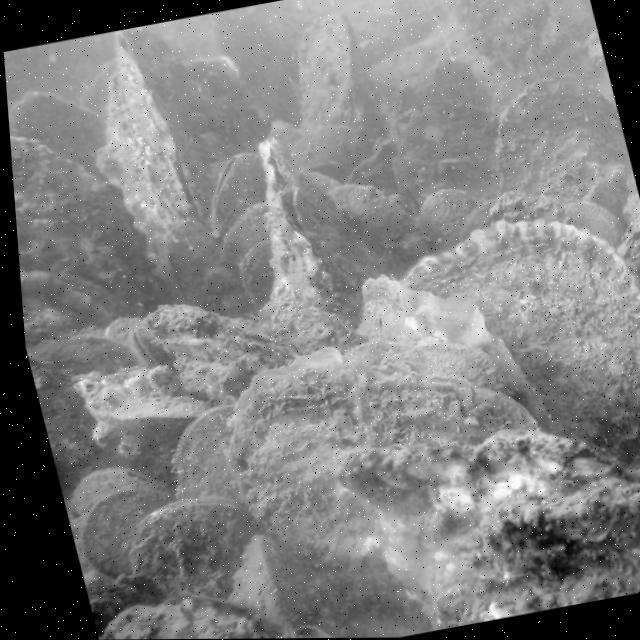Oyster-Closed: (95, 28, 213, 276), (230, 533, 322, 630), (213, 152, 266, 240), (130, 328, 177, 371)
Oyster-Indeterminate: (227, 344, 542, 638), (337, 428, 640, 630), (398, 221, 640, 451), (360, 279, 549, 427), (10, 136, 166, 315), (257, 140, 384, 330), (497, 74, 631, 236), (147, 307, 297, 402), (130, 496, 267, 597), (393, 100, 504, 217), (455, 0, 596, 82), (299, 13, 384, 139), (330, 184, 437, 281), (8, 90, 111, 183), (104, 592, 295, 640), (169, 220, 255, 317), (82, 489, 173, 578), (175, 403, 241, 500), (69, 467, 169, 515), (421, 188, 478, 252), (345, 139, 400, 197), (221, 202, 270, 266), (563, 204, 619, 246), (237, 238, 273, 303), (106, 318, 145, 350)
Oyster-Open: (308, 162, 349, 190)
